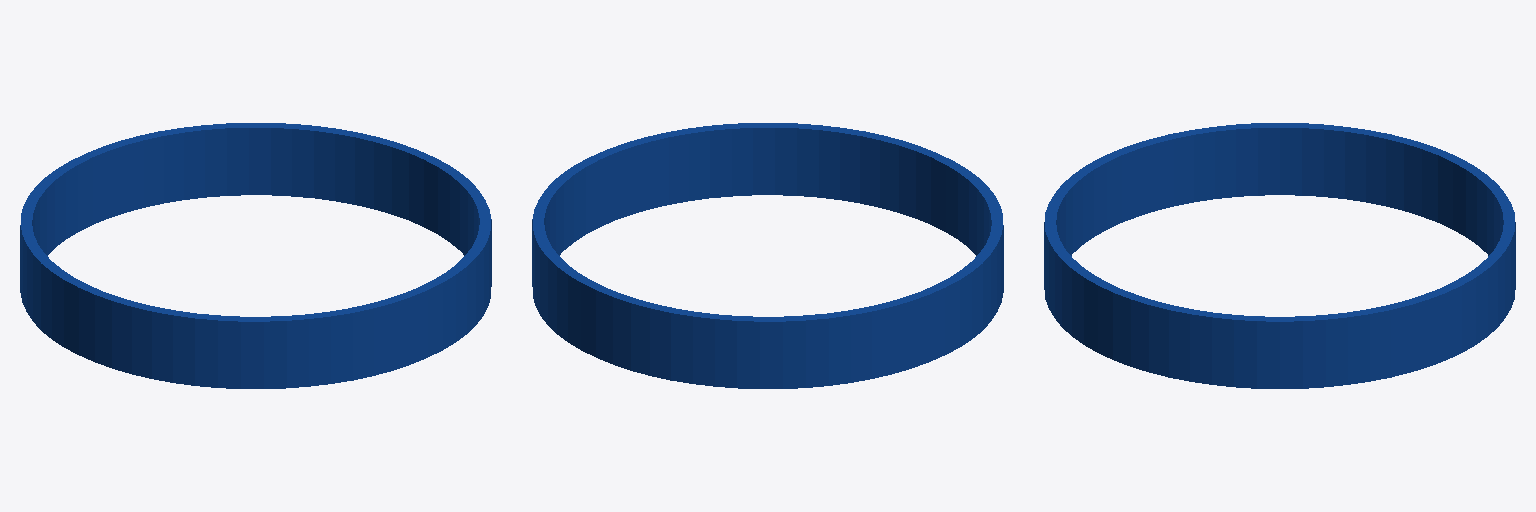
The robot description file, URDF, robot "station":
<?xml version="1.0" ?>

<robot name="station">
    
    <material name="industrial-blue">
        <color rgba="0.113725 0.3450980 0.654901 1" />
    </material>
    
    <material name="arches-blue">
        <color rgba="0.0 0.6235294 0.831372 1" />
    </material>
    
    <material name = "heritage-orange">
        <color rgba = "0.96078 0.50980 0.11764 1" />
    </material>
    
    
    <link name="space">
    </link>

    <link name="ring" concave="yes">
        <visual>
            <origin rpy="0 0 0" xyz="0 0 0"/>
            <geometry>
                <mesh filename="Hollow_Cylinder.stl" scale="31.578947368421055 31.578947368421055 5"/>
            </geometry>
            <material name = "industrial-blue"/>
        </visual>
        <collision concave="yes">
            <origin rpy="0 0 0" xyz="0 0 0"/>
            <geometry>
                <mesh filename="Hollow_Cylinder.stl" scale="31.578947368421055 31.578947368421055 5"/>
            </geometry>
        </collision>
        <inertial>
            <origin rpy="0 0 0" xyz="0 0 0"/>
            <mass value="0"/>
            <inertia ixx="0" ixy="0" ixz="0" iyy="0" iyz="0" izz="0"/>
        </inertial>
    </link>
    
    <link name="start_1">
        <visual>
            <origin rpy="0 0 0" xyz="0 0 0"/>
            <geometry>
                <mesh filename="cube.stl" scale="2 2 0.3"/>
            </geometry>
            <material name = "industrial-blue"/>
        </visual>
        <collision>
            <origin rpy="0 0 0" xyz="0 0 0"/>
            <geometry>
                <mesh filename="cube.stl" scale="2 2 0.3"/>
            </geometry>
        </collision>
        <inertial>
            <origin rpy="0 0 0" xyz="0 0 0"/>
            <mass value="0"/>
            <inertia ixx="0" ixy="0" ixz="0" iyy="0" iyz="0" izz="0"/>
        </inertial>
    </link>

    <link name="start_2">
        <visual>
            <origin rpy="0 0 0" xyz="0 0 0"/>
            <geometry>
                <mesh filename="cube.stl" scale="2 2 0.3"/>
            </geometry>
            <material name = "industrial-blue"/>
        </visual>
        <collision>
            <origin rpy="0 0 0" xyz="0 0 0"/>
            <geometry>
                <mesh filename="cube.stl" scale="2 2 0.3"/>
            </geometry>
        </collision>
        <inertial>
            <origin rpy="0 0 0" xyz="0 0 0"/>
            <mass value="0"/>
            <inertia ixx="0" ixy="0" ixz="0" iyy="0" iyz="0" izz="0"/>
        </inertial>
    </link>

    <link name="quater_1">
        <visual>
            <origin rpy="0 0 0" xyz="0 0 0"/>
            <geometry>
                <mesh filename="cylinder.stl" scale="2 2 0.3"/>
            </geometry>
            <material name = "industrial-blue"/>
        </visual>
        <collision>
            <origin rpy="0 0 0" xyz="0 0 0"/>
            <geometry>
                <mesh filename="cylinder.stl" scale="2 2 0.3"/>
            </geometry>
        </collision>
        <inertial>
            <origin rpy="0 0 0" xyz="0 0 0"/>
            <mass value="0"/>
            <inertia ixx="0" ixy="0" ixz="0" iyy="0" iyz="0" izz="0"/>
        </inertial>
    </link>
    
    <link name="quater_2">
        <visual>
            <origin rpy="0 0 0" xyz="0 0 0"/>
            <geometry>
                <mesh filename="cylinder.stl" scale="2 2 0.3"/>
            </geometry>
            <material name = "industrial-blue"/>
        </visual>
        <collision>
            <origin rpy="0 0 0" xyz="0 0 0"/>
            <geometry>
                <mesh filename="cylinder.stl" scale="2 2 0.3"/>
            </geometry>
        </collision>
        <inertial>
            <origin rpy="0 0 0" xyz="0 0 0"/>
            <mass value="0"/>
            <inertia ixx="0" ixy="0" ixz="0" iyy="0" iyz="0" izz="0"/>
        </inertial>
    </link>

    <link name="half_1">
        <visual>
            <origin rpy="0 0 0" xyz="0 0 0"/>
            <geometry>
                <mesh filename="cylinder.stl" scale="2 2 0.3"/>
            </geometry>
            <material name = "industrial-blue"/>
        </visual>
        <collision>
            <origin rpy="0 0 0" xyz="0 0 0"/>
            <geometry>
                <mesh filename="cylinder.stl" scale="2 2 0.3"/>
            </geometry>
        </collision>
        <inertial>
            <origin rpy="0 0 0" xyz="0 0 0"/>
            <mass value="0"/>
            <inertia ixx="0" ixy="0" ixz="0" iyy="0" iyz="0" izz="0"/>
        </inertial>
    </link>
    
    <link name="half_2">
        <visual>
            <origin rpy="0 0 0" xyz="0 0 0"/>
            <geometry>
                <mesh filename="cylinder.stl" scale="2 2 0.3"/>
            </geometry>
            <material name = "industrial-blue"/>
        </visual>
        <collision>
            <origin rpy="0 0 0" xyz="0 0 0"/>
            <geometry>
                <mesh filename="cylinder.stl" scale="2 2 0.3"/>
            </geometry>
        </collision>
        <inertial>
            <origin rpy="0 0 0" xyz="0 0 0"/>
            <mass value="0"/>
            <inertia ixx="0" ixy="0" ixz="0" iyy="0" iyz="0" izz="0"/>
        </inertial>
    </link>
    
    <link name="three_quater_1">
        <visual>
            <origin rpy="0 0 0" xyz="0 0 0"/>
            <geometry>
                <mesh filename="cylinder.stl" scale="2 2 0.3"/>
            </geometry>
            <material name = "industrial-blue"/>
        </visual>
        <collision>
            <origin rpy="0 0 0" xyz="0 0 0"/>
            <geometry>
                <mesh filename="cylinder.stl" scale="2 2 0.3"/>
            </geometry>
        </collision>
        <inertial>
            <origin rpy="0 0 0" xyz="0 0 0"/>
            <mass value="0"/>
            <inertia ixx="0" ixy="0" ixz="0" iyy="0" iyz="0" izz="0"/>
        </inertial>
    </link>
    
    <link name="three_quater_2">
        <visual>
            <origin rpy="0 0 0" xyz="0 0 0"/>
            <geometry>
                <mesh filename="cylinder.stl" scale="2 2 0.3"/>
            </geometry>
            <material name = "industrial-blue"/>
        </visual>
        <collision>
            <origin rpy="0 0 0" xyz="0 0 0"/>
            <geometry>
                <mesh filename="cylinder.stl" scale="2 2 0.3"/>
            </geometry>
        </collision>
        <inertial>
            <origin rpy="0 0 0" xyz="0 0 0"/>
            <mass value="0"/>
            <inertia ixx="0" ixy="0" ixz="0" iyy="0" iyz="0" izz="0"/>
        </inertial>
    </link>
    
    <joint name="space_to_ring" type="continuous">
        <parent link = "space" />
        <child link = "ring" />
        <origin rpy="0 0 0" xyz = "0 0 0" />
        <axis xyz = "0 0 1" />
    </joint>
    
    <joint name="ring_to_start_1" type="fixed">
        <parent link = "ring" />
        <child link = "start_1" />
        <origin rpy="0 0 0" xyz = "14.789473684210526 0 5.15" />
    </joint>
    
    <joint name="ring_to_start_2" type="fixed">
        <parent link = "ring" />
        <child link = "start_2" />
        <origin rpy="0 0 0" xyz = "14.789473684210526 0 -0.15" />
    </joint>
    
    <joint name="ring_to_quater_1" type="fixed">
        <parent link = "ring" />
        <child link = "quater_1" />
        <origin rpy="0 0 0" xyz = "0 -14.789473684210526 5.15" />
    </joint>
    
    <joint name="ring_to_quater_2" type="fixed">
        <parent link = "ring" />
        <child link = "quater_2" />
        <origin rpy="0 0 0" xyz = "0 -14.789473684210526 -0.15" />
    </joint>
    
    <joint name="ring_to_half_1" type="fixed">
        <parent link = "ring" />
        <child link = "half_1" />
        <origin rpy="0 0 0" xyz = "-14.789473684210526 0 5.15" />
    </joint>
    
    <joint name="ring_to_half_2" type="fixed">
        <parent link = "ring" />
        <child link = "half_2" />
        <origin rpy="0 0 0" xyz = "-14.789473684210526 0 -0.15" />
    </joint>
    
    <joint name="ring_to_three_quater_1" type="fixed">
        <parent link = "ring" />
        <child link = "three_quater_1" />
        <origin rpy="0 0 0" xyz = "0 14.789473684210526 5.15" />
    </joint>
    
    <joint name="ring_to_three_quater_2" type="fixed">
        <parent link = "ring" />
        <child link = "three_quater_2" />
        <origin rpy="0 0 0" xyz = "0 14.789473684210526 -0.15" />
    </joint>

</robot>

--- Render facts (derived) ---
3 views of the same robot in one strip: view 1: azimuth 30°, elevation 25°; view 2: azimuth 150°, elevation 25°; view 3: azimuth 270°, elevation 25° (orthographic).
Robot: station — 10 links, 9 joints (1 continuous, 8 fixed); root link space; default pose: every joint at zero.
Visible links, largest first — view 1: ring; view 2: ring; view 3: ring.
Boxes of the visible links, x1,y1,x2,y2 form: ring: [20, 123, 491, 388]; ring: [532, 123, 1003, 388]; ring: [1044, 123, 1515, 388].
Bounding box of the posed robot: 31.58 × 31.58 × 5 m (x, y, z).
Meshes: 3 distinct files referenced, 1 mesh visuals loaded (1 binary STL); not drawn: 8 (reference not matched to a file when rendering).